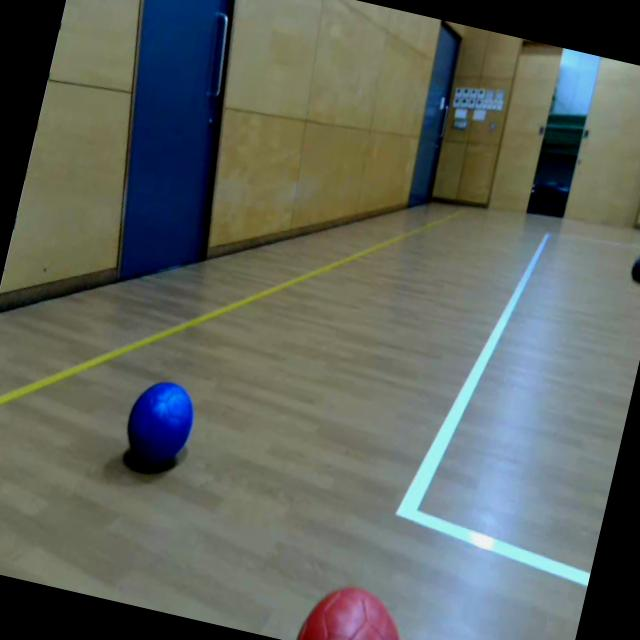blue_ball: (118, 374, 200, 470)
red_ball: (294, 575, 418, 640)
